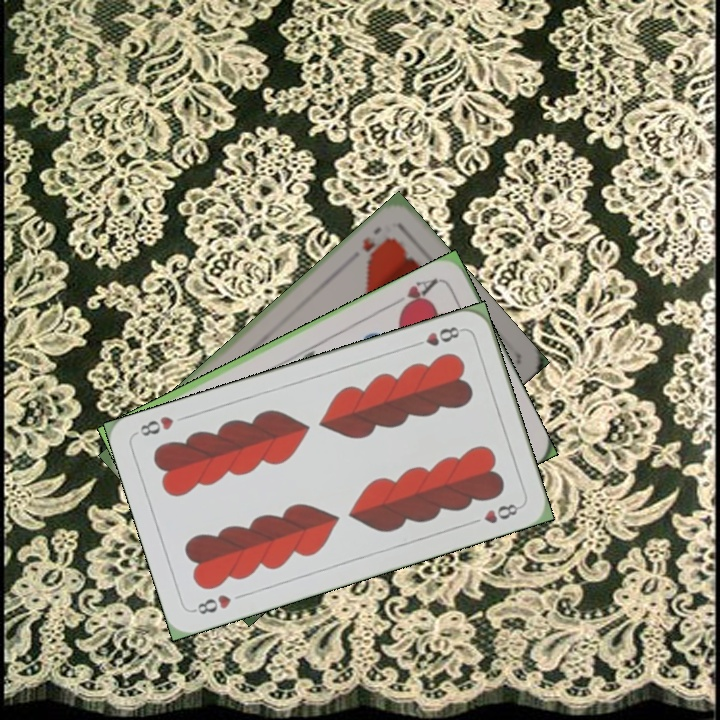H8: (409, 322, 466, 350), (189, 590, 234, 617)
HA: (387, 274, 441, 314)
HO: (358, 222, 397, 261)
